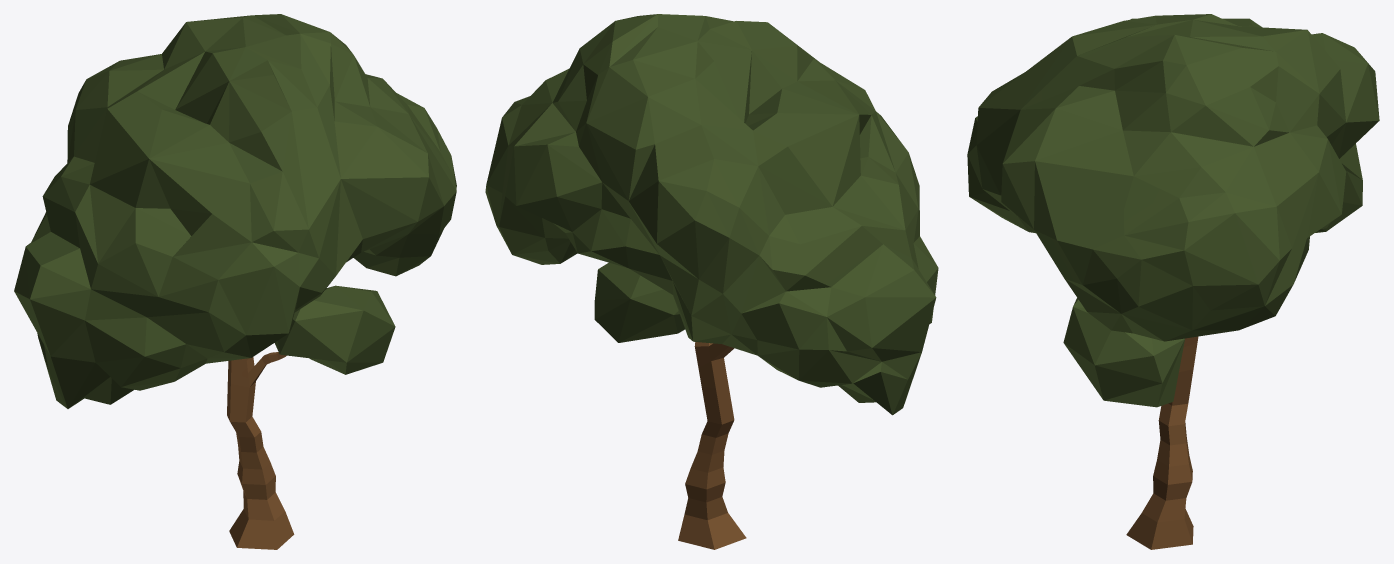
File: delh_foli_05.fbx
3 views of the same model, side by side, from view 1: azimuth 30°, elevation 25°; view 2: azimuth 150°, elevation 25°; view 3: azimuth 270°, elevation 25° (orthographic). The views are drawn at different scales.
Visible parts, largest first — view 1: delh_foli_05; view 2: delh_foli_05; view 3: delh_foli_05.
Part boxes in pixels (x1,y1,x2,y2): delh_foli_05: (14, 14, 456, 549); delh_foli_05: (485, 14, 938, 549); delh_foli_05: (967, 14, 1379, 549).
Bounding box in the file's own units: 650 × 742 × 529.
